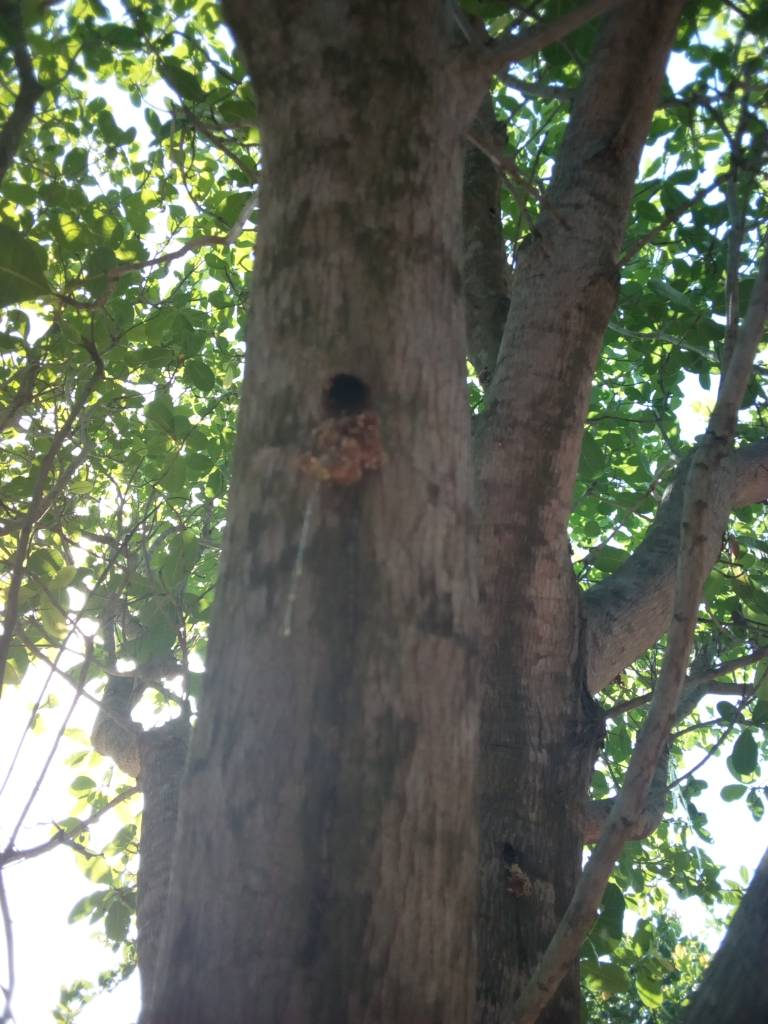Apate terebrans: (299, 358, 399, 463)
